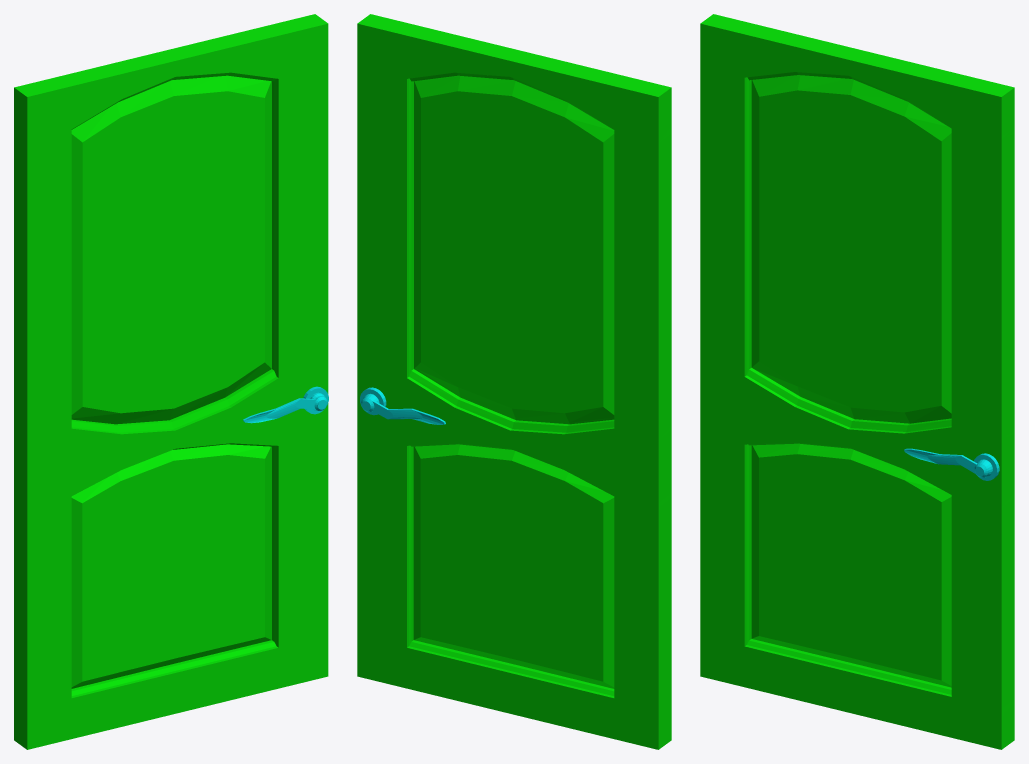
The model's file is Door.fbx.
3 renders of one model, left to right at view 1: azimuth 30°, elevation 25°; view 2: azimuth 150°, elevation 25°; view 3: azimuth 330°, elevation 25°, orthographic.
Visible parts, largest first — view 1: Door; view 2: Door; view 3: Door.
Boxes of the visible parts, box(x1,y1,x2,y2) form: Door: box(14, 14, 328, 749); Door: box(357, 14, 671, 749); Door: box(700, 14, 1014, 749).
Bounding box in the file's own units: 1 × 2.07 × 0.1691.
